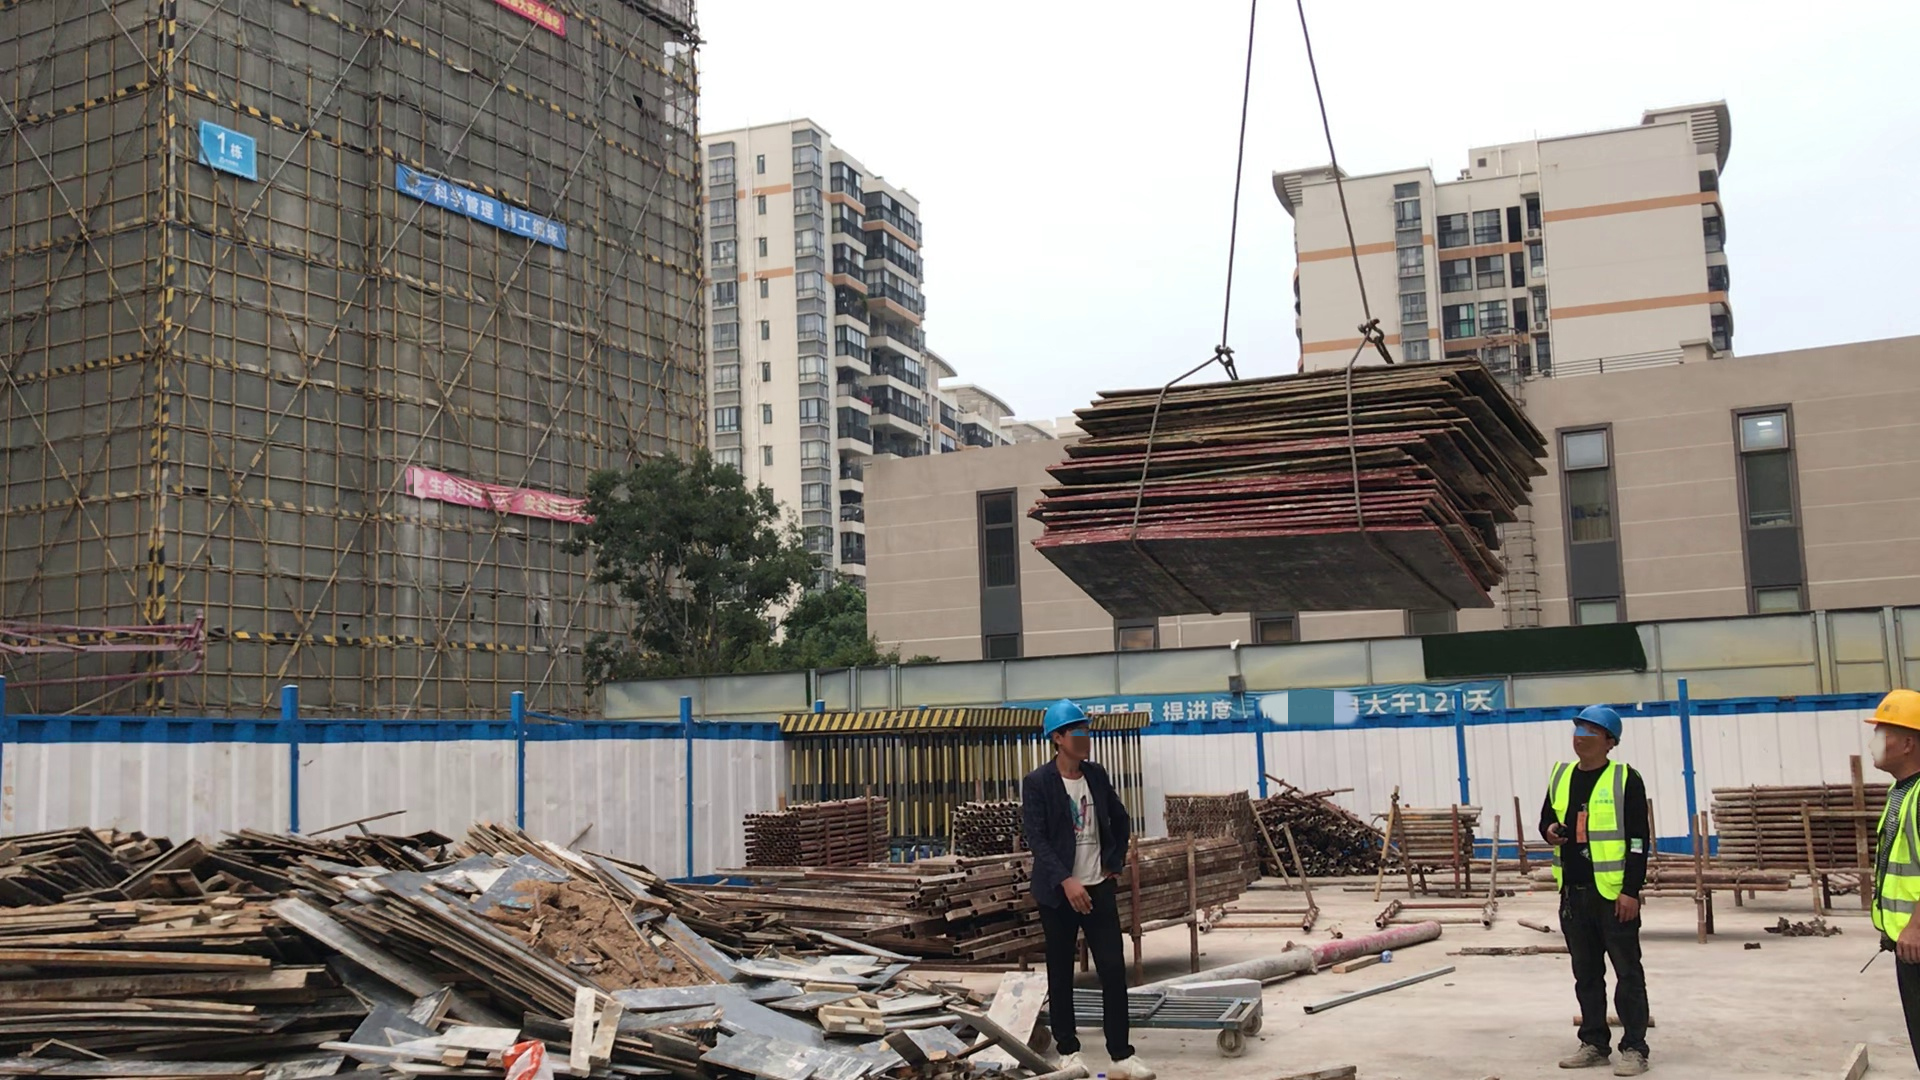board: (1026, 354, 1551, 613)
helmet: (1865, 687, 1920, 729), (1574, 705, 1628, 743), (1041, 701, 1084, 732)
person: (1025, 701, 1156, 1074), (1541, 706, 1658, 1080), (1856, 683, 1918, 1080)
scaffold: (1717, 782, 1866, 876), (748, 793, 892, 870), (1380, 805, 1470, 856), (1167, 787, 1244, 845), (952, 797, 1024, 857)
slogan: (399, 158, 572, 249), (1085, 682, 1500, 717), (402, 464, 604, 530), (496, 1, 561, 34)
vest: (1549, 757, 1625, 901), (1873, 780, 1920, 956)
